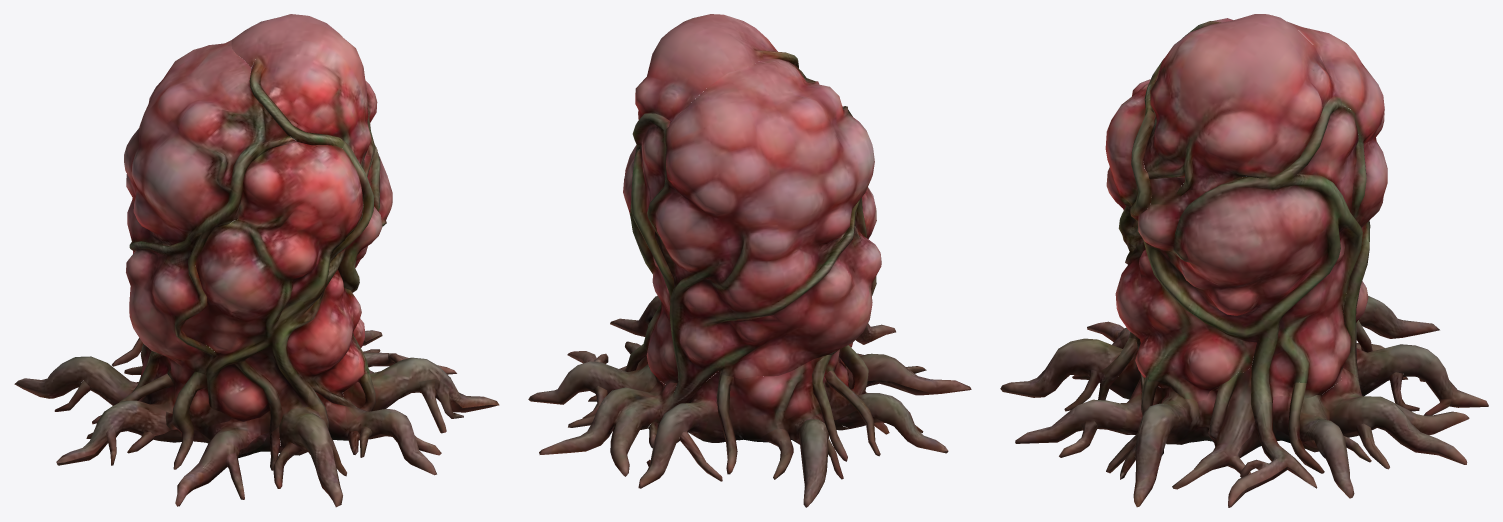
The model's file is mini_cronenberg.glb.
3 renders of one model, left to right at view 1: azimuth 30°, elevation 25°; view 2: azimuth 150°, elevation 25°; view 3: azimuth 270°, elevation 25°, orthographic. The views are drawn at different scales.
Parts seen in each view (by area): view 1: mini_cronenberg; view 2: mini_cronenberg; view 3: mini_cronenberg.
Part boxes in pixels (<box>): mini_cronenberg: <box>14,14,499,507</box>; mini_cronenberg: <box>528,14,971,507</box>; mini_cronenberg: <box>1000,14,1488,507</box>.
Bounding box in the file's own units: 0.2673 × 0.2486 × 0.27.
1 material, 1 textured.
